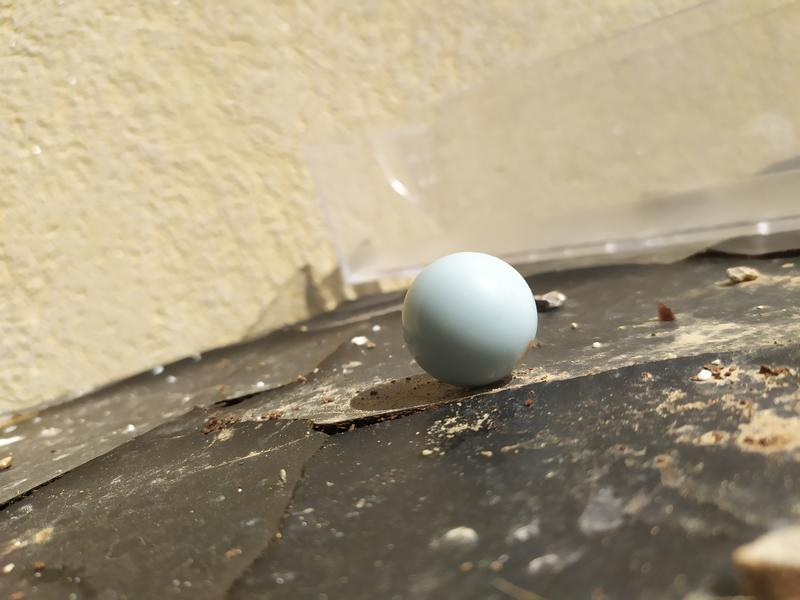Warning: (397, 246, 544, 392)
